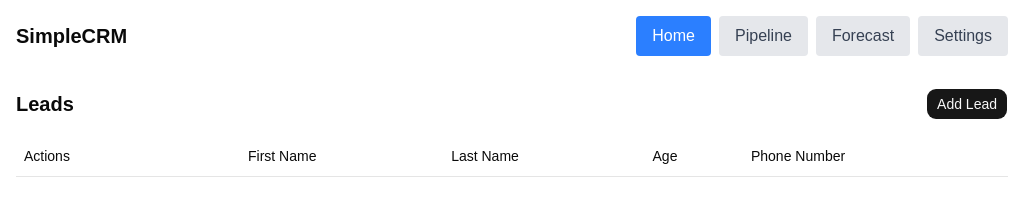
Test: App › shows the forecast page when Forecast is clicked
The image size is (1024, 197).
Click the button "Forecast".
click(863, 36)  # box [816,16,910,56]
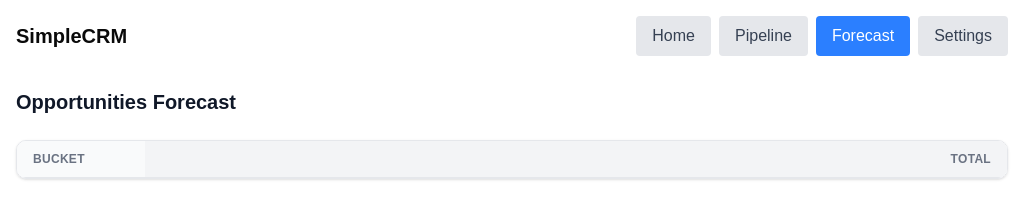
Result: the heading "Opportunities Forecast" is shown at [16,88,236,116]
